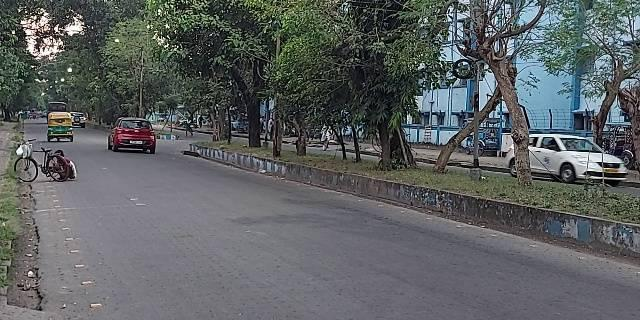Autorickshaw: (46, 112, 74, 139)
Car: (529, 134, 627, 182), (112, 119, 159, 149)
Cycle: (15, 143, 69, 185)
